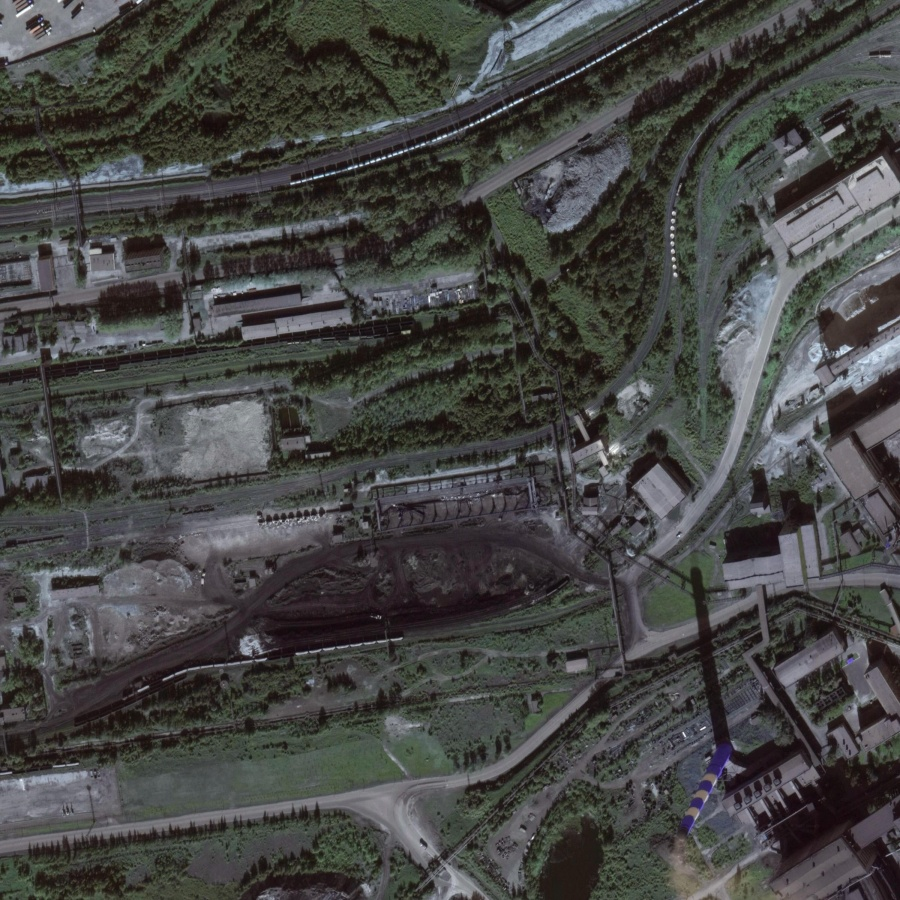PowerPlant: (138, 502, 578, 667)
